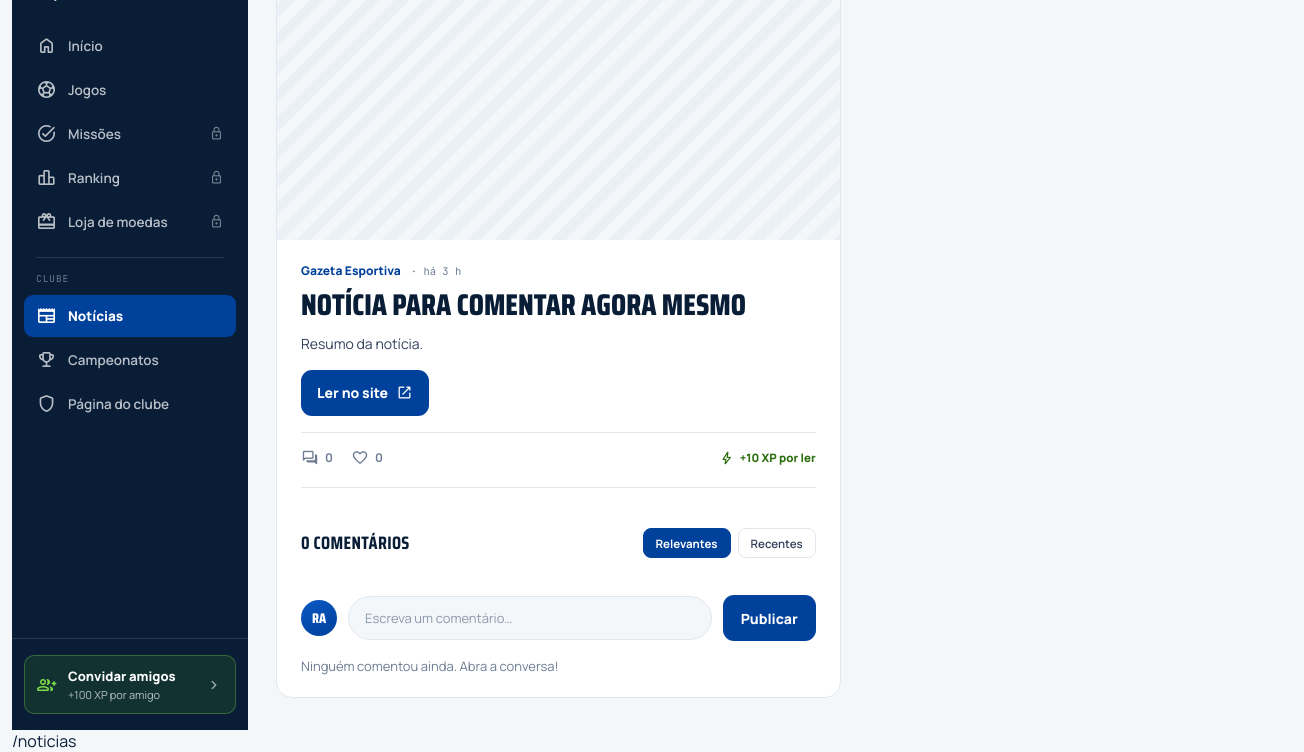
notícias do clube (W09) › comenta: o comentário aparece, o contador sobe e o segundo seguido é barrado com a mensagem traduzida
(page scrolled)
Expected: the text "Ninguém comentou ainda. Abra a conversa!" is shown, [301,657,558,675]
Type "Esse volta voando" into the field labelled "Escreva um comentário" at (530, 618), box [348,596,712,640]
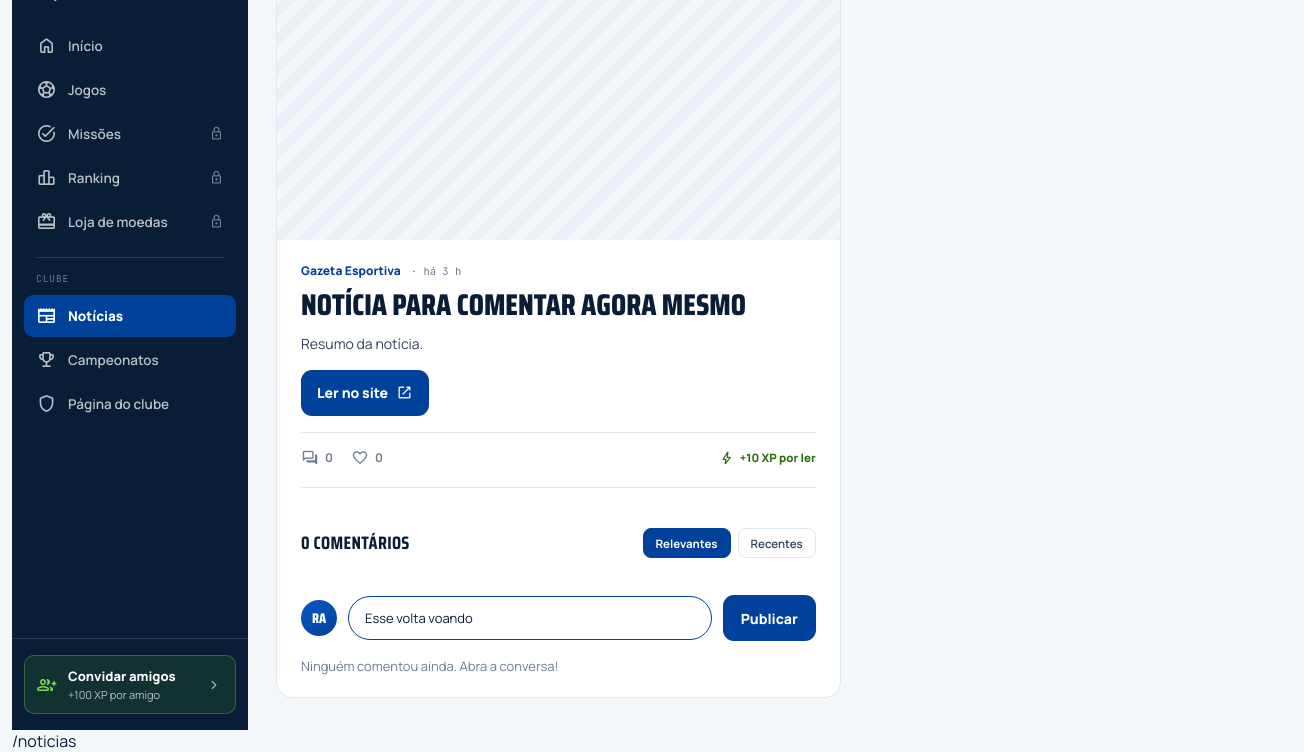
Click the button "Publicar" at (769, 618), box [723,595,816,641]
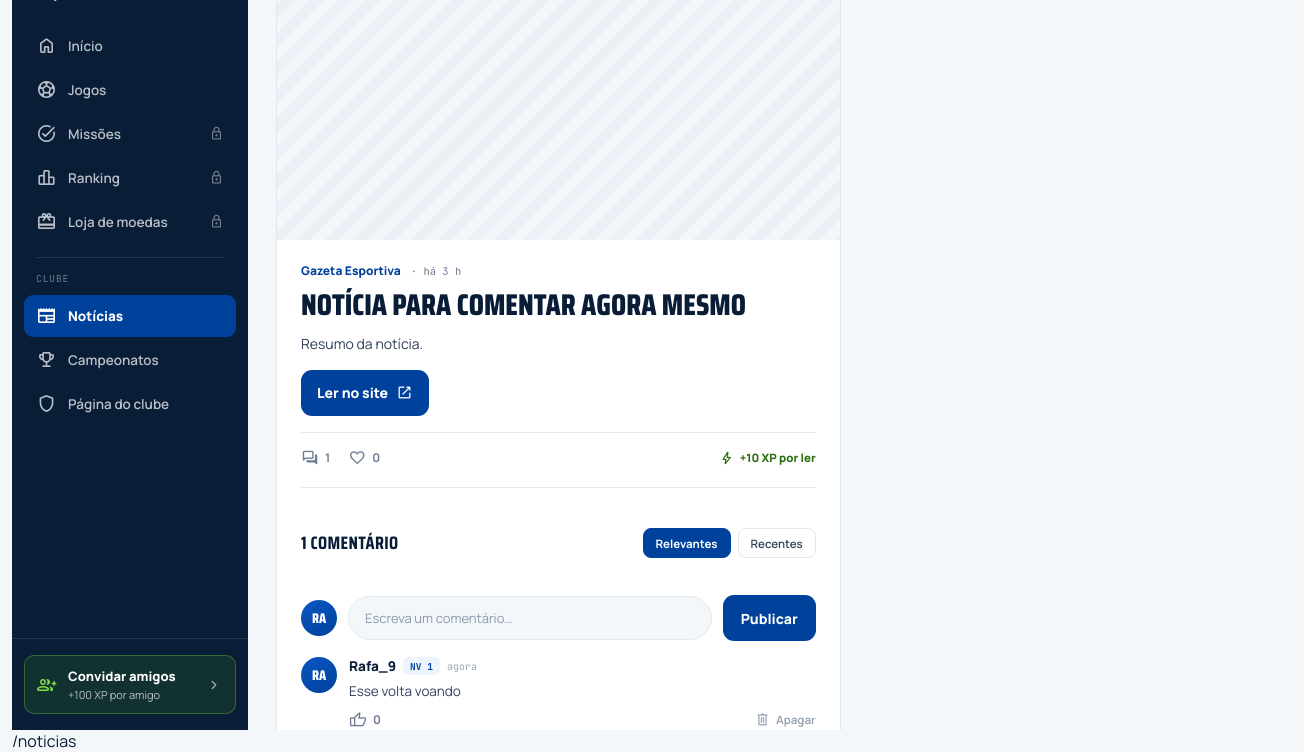
Expected: the text "Esse volta voando" is shown, [349,682,461,700]
Expected: the list named "Comentários" shows "Rafa_9", [349,657,396,675]
Expected: the heading "1 comentário" is shown, [301,529,398,557]
Type "Mais um" into the field labelled "Escreva um comentário" at (530, 618), box [348,596,712,640]
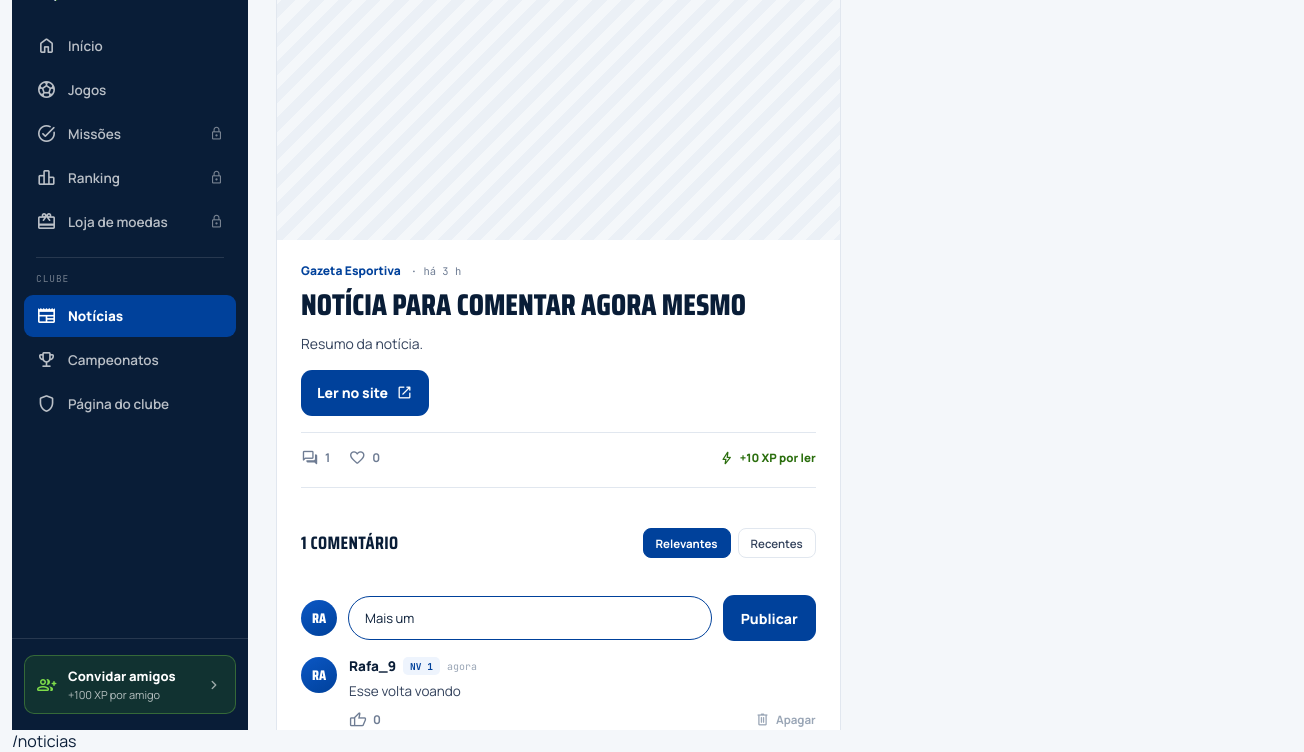
Click the button "Publicar" at (769, 618), box [723,595,816,641]
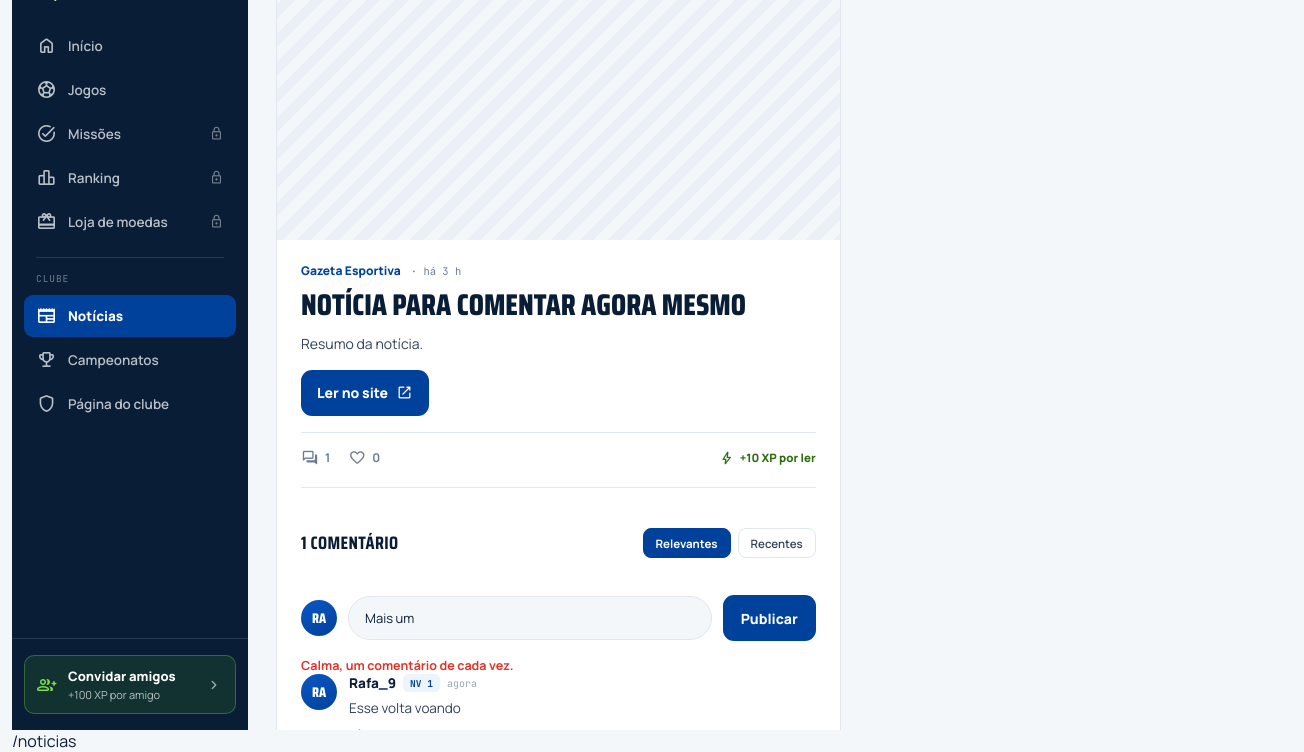
Expected: the message reads "Calma, um comentário de cada vez.", [301,657,514,674]
